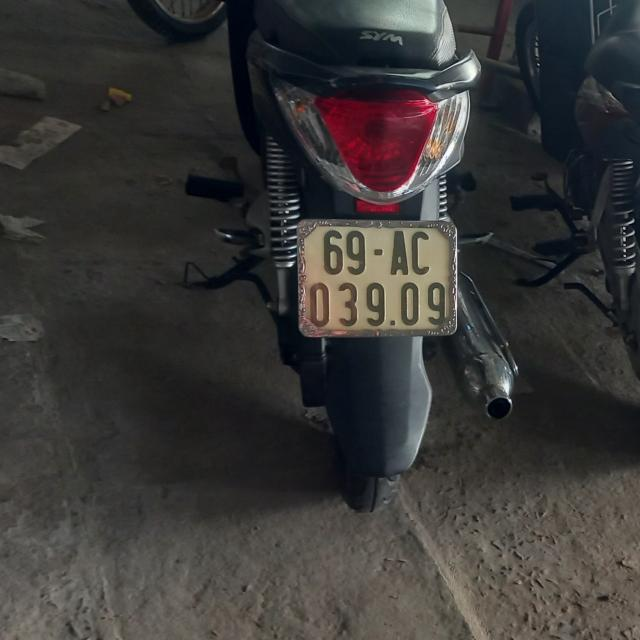0: (309, 282, 331, 327), (402, 282, 419, 326)
3: (338, 282, 358, 326)
6: (324, 230, 344, 277)
9: (346, 230, 366, 275), (427, 282, 446, 326), (367, 282, 385, 326)
A: (389, 231, 409, 275)
C: (411, 230, 429, 274)
